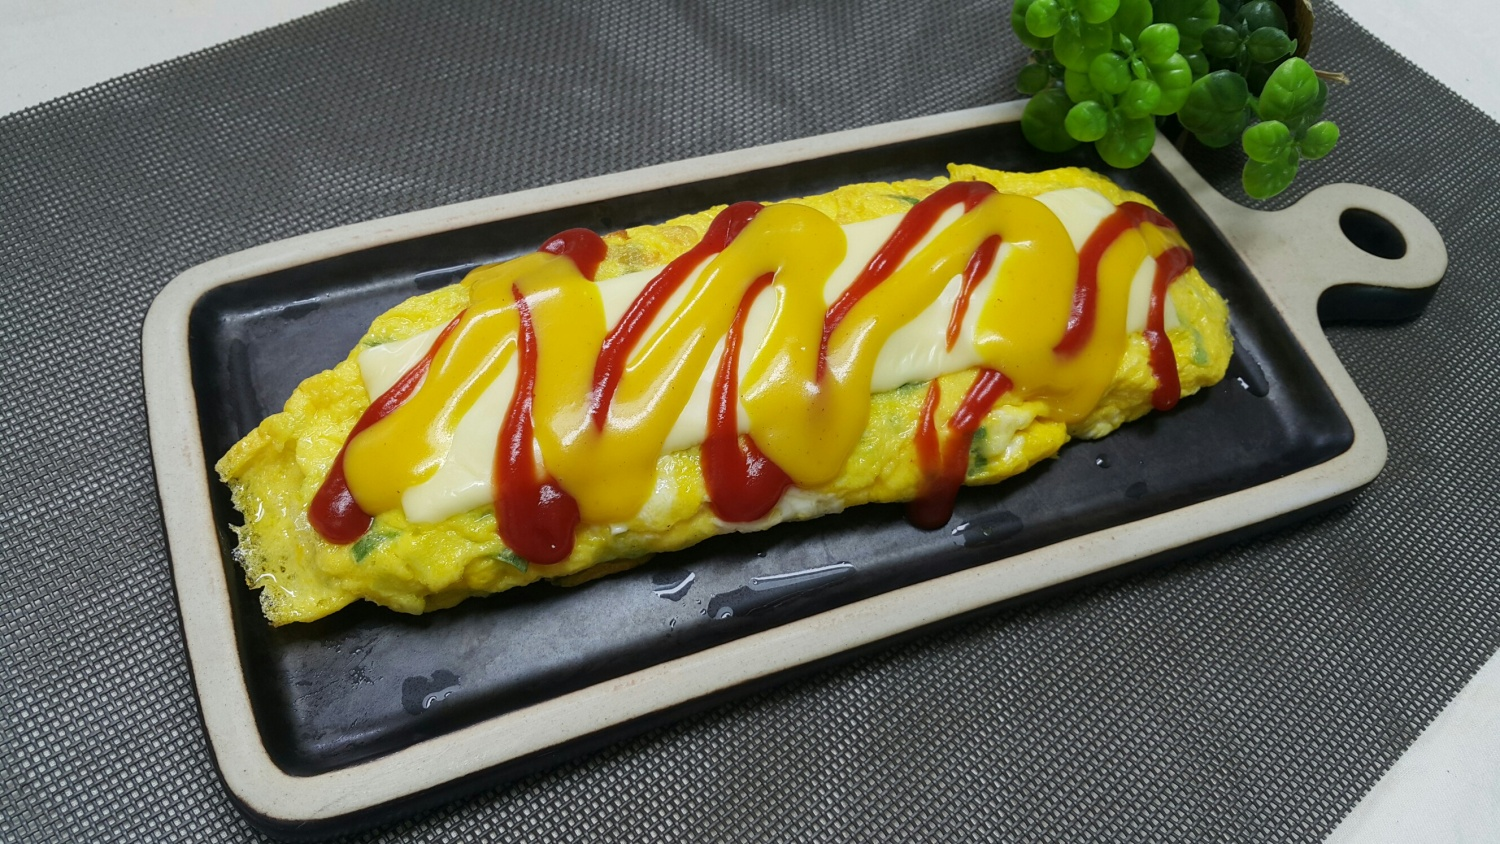gyelanmal-i: (172, 166, 1247, 678)
